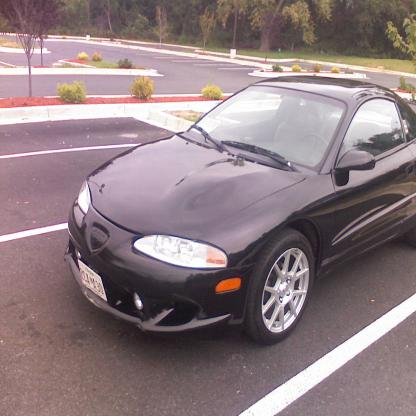Vehicle: (66, 83, 415, 352)
